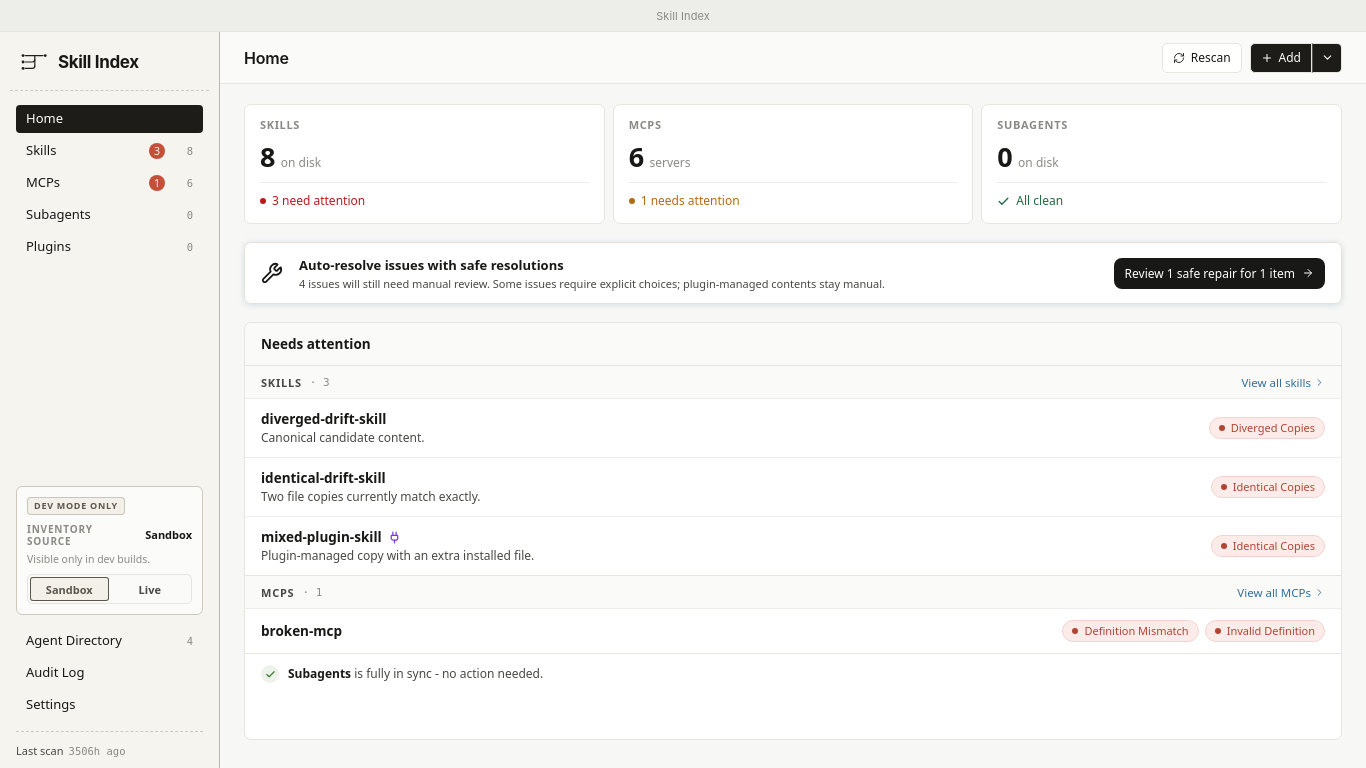
Test: App shell inventory views › shows distinct Audit empty copy when search filters out existing events
Click the button "Audit Log".
click(110, 673)  # box [16, 659, 203, 687]
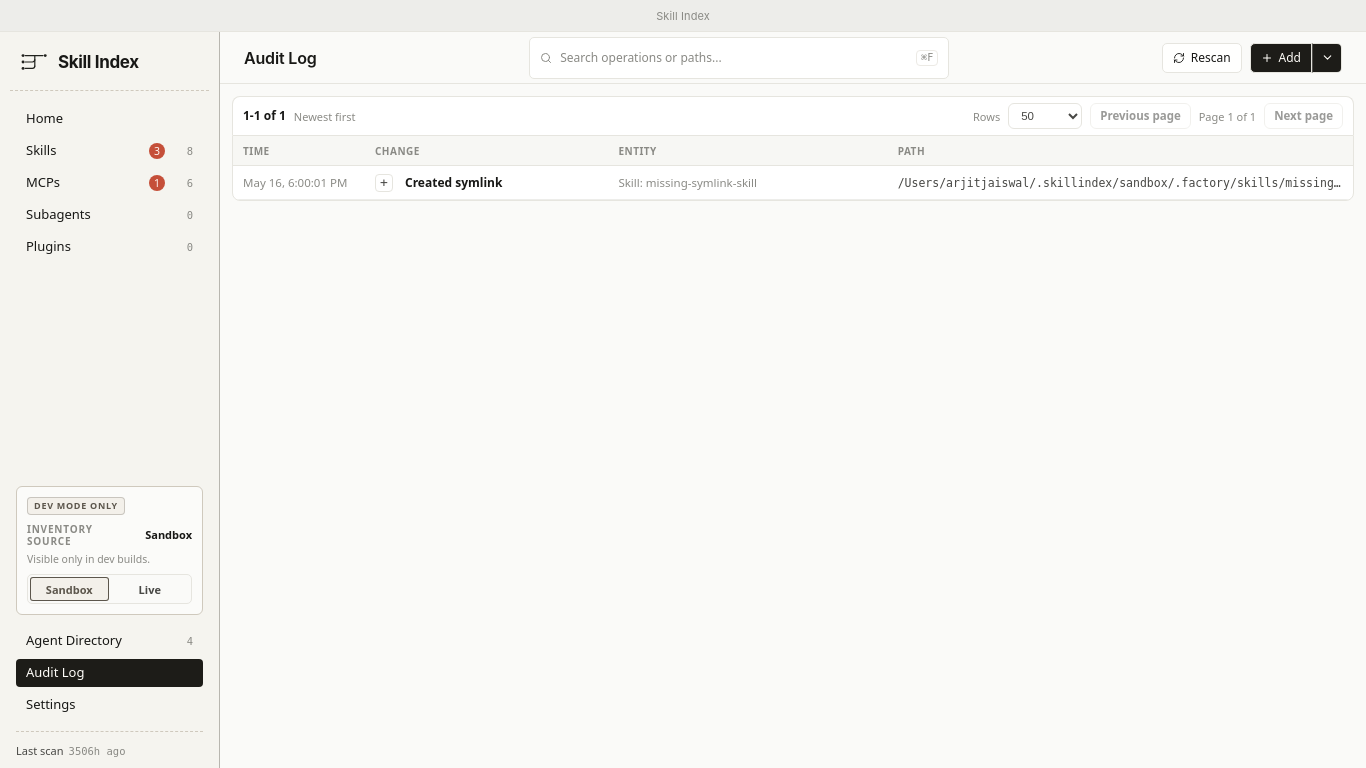
Type "no matching audit event" into the search field named "Search audit log".
click(734, 58); type("no matching audit event")  # box [560, 38, 908, 78]
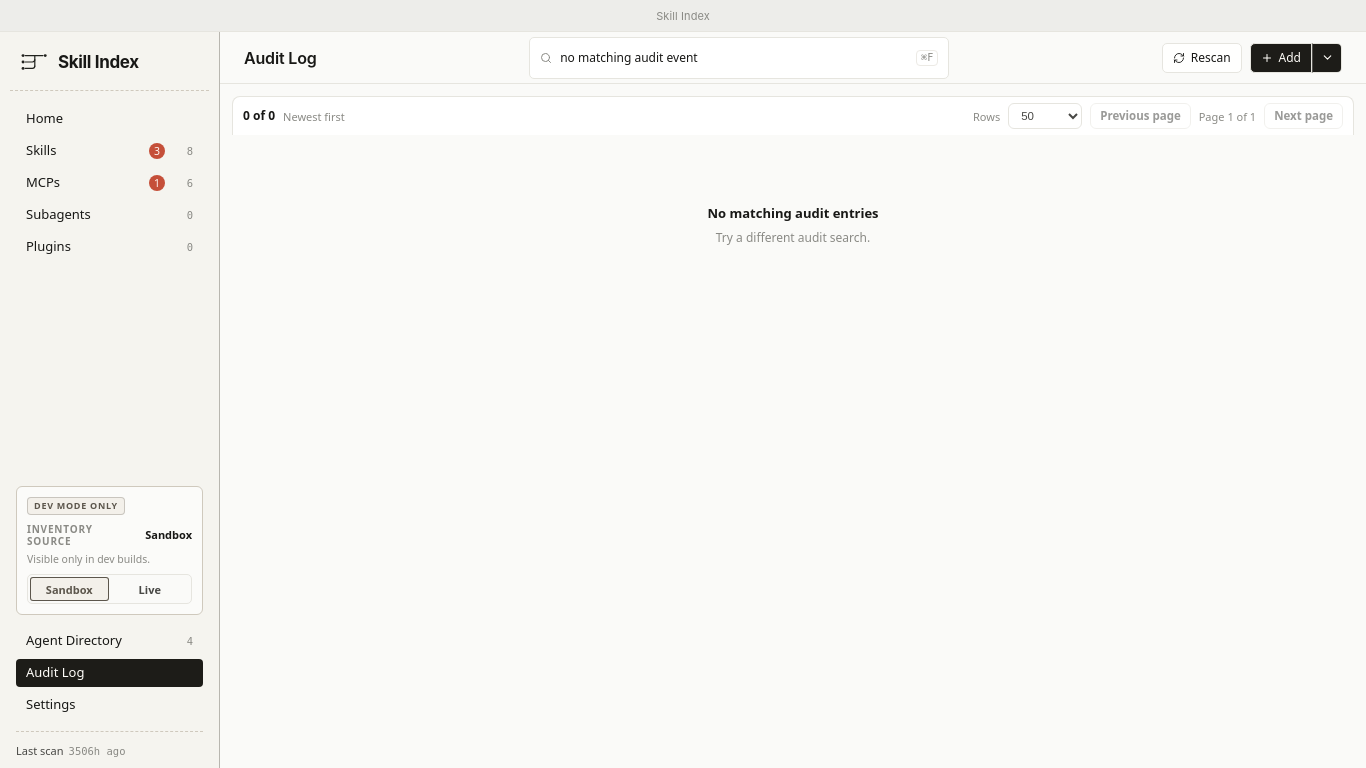
Check: the text "No matching audit entries" is shown, box [708, 203, 879, 224]
Check: the text "Try a different audit search." is shown, box [708, 228, 879, 247]
